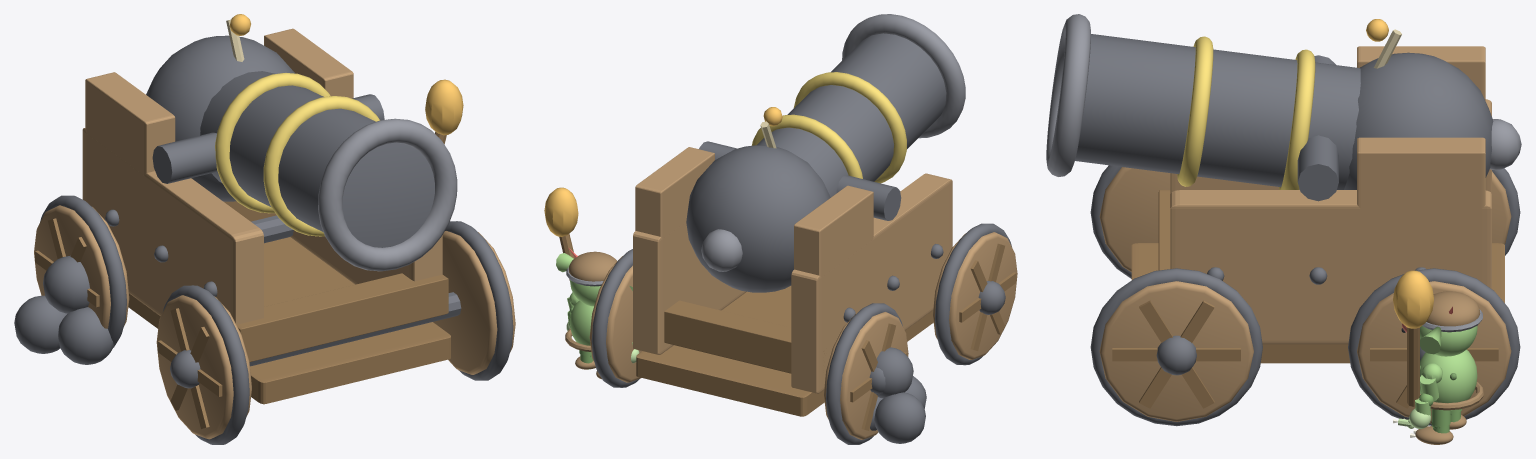
The model's file is tower_cannon.glb.
The picture shows the model from 3 angles, left to right: view 1: azimuth 30°, elevation 25°; view 2: azimuth 150°, elevation 25°; view 3: azimuth 270°, elevation 25°; orthographic projection. The views are drawn at different scales.
Parts seen in each view (by area): view 1: Barrel, Cheek, BasePlank, CrossBeam, MuzzleRing, Breech, CheekStep, Wheel.002, Wheel, Wheel.001, Band, Band.001 (+16 smaller); view 2: Cheek, Breech, Barrel, BasePlank, Cheek.001, CrossBeam.001, CheekStep, Wheel, CheekStep.001, MuzzleRing, Wheel.001, Wheel.003 (+18 smaller); view 3: Cheek.001, Barrel, Wheel.002, Breech, CheekStep.001, Wheel.003, MuzzleRing, WheelRim.002, Wheel, WheelRim.003, BasePlank, Band (+21 smaller).
Boxes of the visible parts, box(x1,y1,x2,y2) form: Barrel: box(200, 71, 434, 247); Cheek: box(82, 128, 263, 324); BasePlank: box(128, 237, 450, 404); CrossBeam: box(236, 273, 448, 362); MuzzleRing: box(318, 118, 457, 271); Breech: box(146, 35, 294, 201); CheekStep: box(85, 72, 175, 175); Wheel.002: box(433, 231, 515, 374); Wheel: box(156, 295, 251, 439); Wheel.001: box(34, 205, 129, 328); Band: box(263, 96, 379, 236); Band.001: box(215, 73, 330, 213); Cheek: box(791, 173, 952, 393); Breech: box(686, 145, 830, 292); Barrel: box(757, 33, 946, 197); BasePlank: box(636, 286, 933, 416); Cheek.001: box(633, 222, 746, 354); CrossBeam.001: box(664, 300, 824, 373); CheekStep: box(794, 185, 873, 277); Wheel: box(932, 232, 1017, 359); CheekStep.001: box(635, 147, 714, 238); MuzzleRing: box(842, 14, 965, 138); Wheel.001: box(823, 312, 908, 439); Wheel.003: box(589, 256, 641, 382); Cheek.001: box(1170, 190, 1491, 344); Barrel: box(1075, 34, 1360, 189); Wheel.002: box(1099, 281, 1253, 421); Breech: box(1344, 52, 1493, 189); CheekStep.001: box(1357, 137, 1485, 208); Wheel.003: box(1357, 281, 1511, 417); MuzzleRing: box(1046, 14, 1090, 176); WheelRim.002: box(1090, 268, 1262, 426); Wheel: box(1099, 167, 1170, 271); WheelRim.003: box(1348, 268, 1520, 425); BasePlank: box(1131, 243, 1504, 363); Band: box(1177, 36, 1213, 186).
Bounding box in the file's own units: 2.03 × 1.45 × 1.85.
